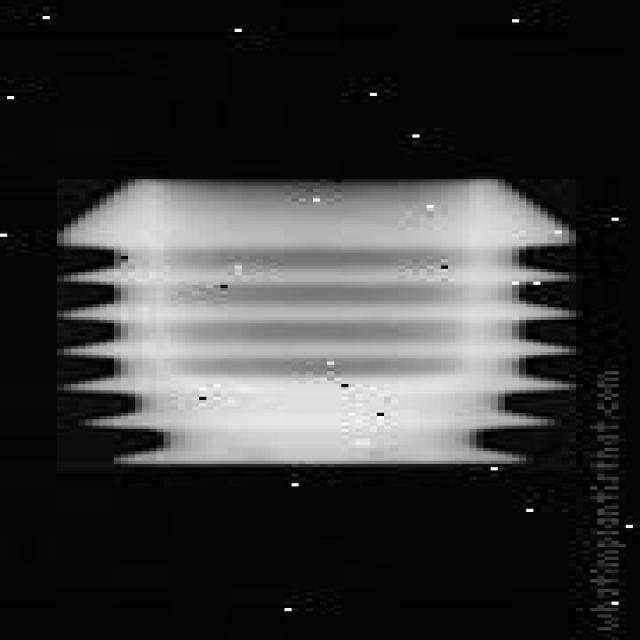OsseoLink Implant: (57, 179, 576, 470)
